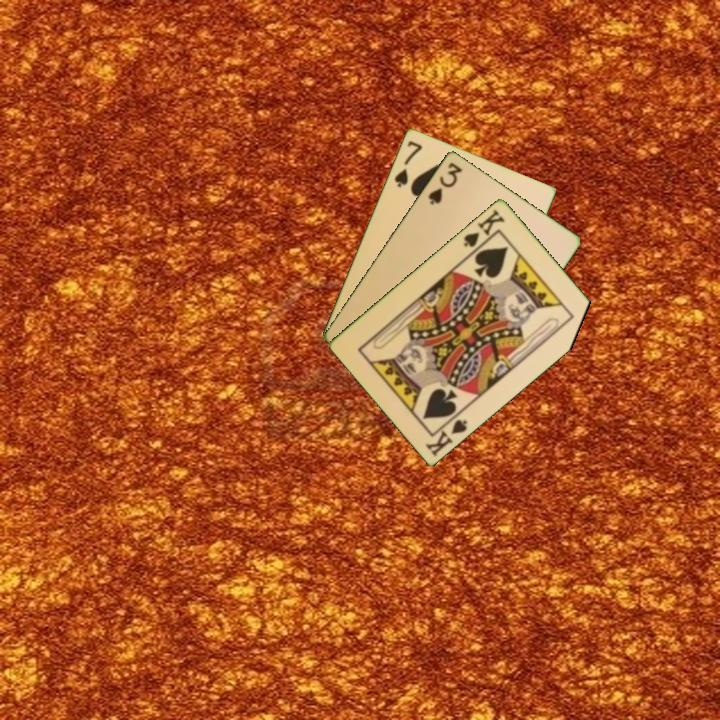3s: (424, 158, 465, 208)
7s: (391, 137, 425, 190)
Ks: (422, 408, 470, 459), (460, 205, 508, 255)
